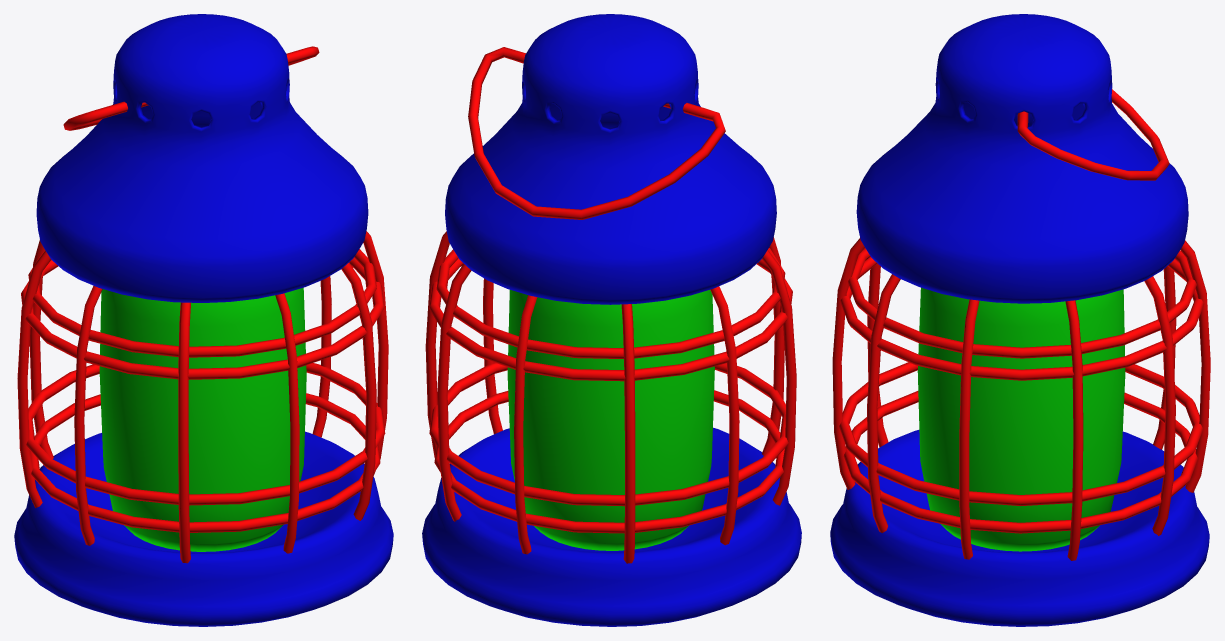
File: Lantern.fbx
The picture shows the model from 3 angles, left to right: view 1: azimuth 30°, elevation 25°; view 2: azimuth 150°, elevation 25°; view 3: azimuth 270°, elevation 25°; orthographic projection.
Visible parts, largest first — view 1: Lantern.003; view 2: Lantern.003; view 3: Lantern.003.
Part boxes in pixels (box(x1,y1,x2,y2)): Lantern.003: box(14, 14, 393, 626); Lantern.003: box(422, 14, 801, 626); Lantern.003: box(830, 14, 1210, 626).
Size of the model in its own units: 24.59 by 38.03 by 24.71.
